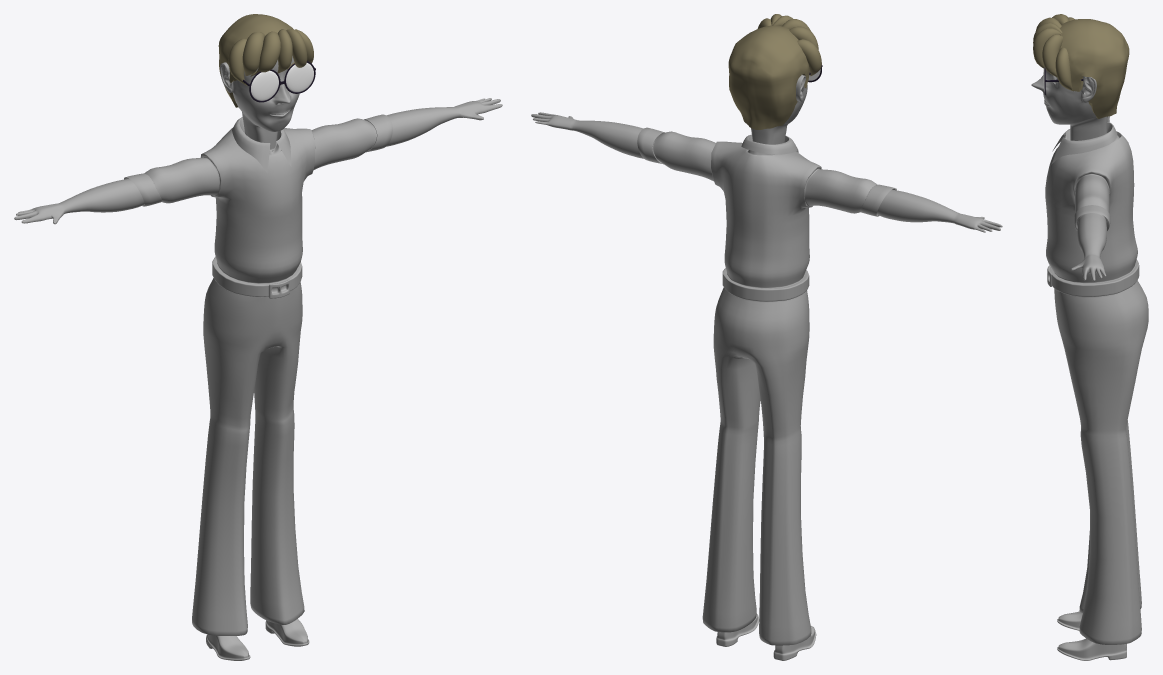
The model's file is CHAR_CivKiller001_AOR.fbx.
3 views of the same model, side by side, from view 1: azimuth 30°, elevation 25°; view 2: azimuth 150°, elevation 25°; view 3: azimuth 270°, elevation 25° (orthographic). The views are drawn at different scales.
Visible parts, largest first — view 1: Civil_Body, Scalp, Glasses_Glass, Hair_Strand_5; view 2: Civil_Body, Scalp; view 3: Civil_Body, Scalp, Hair_Strand_2, Hair_Strand_6, Hair_Strand_1.
Part boxes in pixels (<box>): Civil_Body: <box>14,56,502,660</box>; Scalp: <box>218,14,293,107</box>; Glasses_Glass: <box>251,63,313,100</box>; Hair_Strand_5: <box>242,32,264,75</box>; Civil_Body: <box>531,74,1002,660</box>; Scalp: <box>728,25,809,129</box>; Civil_Body: <box>1031,70,1148,660</box>; Scalp: <box>1060,19,1129,118</box>; Hair_Strand_2: <box>1042,34,1062,77</box>; Hair_Strand_6: <box>1055,47,1073,91</box>; Hair_Strand_1: <box>1033,28,1061,69</box>.
Size of the model in its own units: 1.56 by 1.94 by 0.3324.
